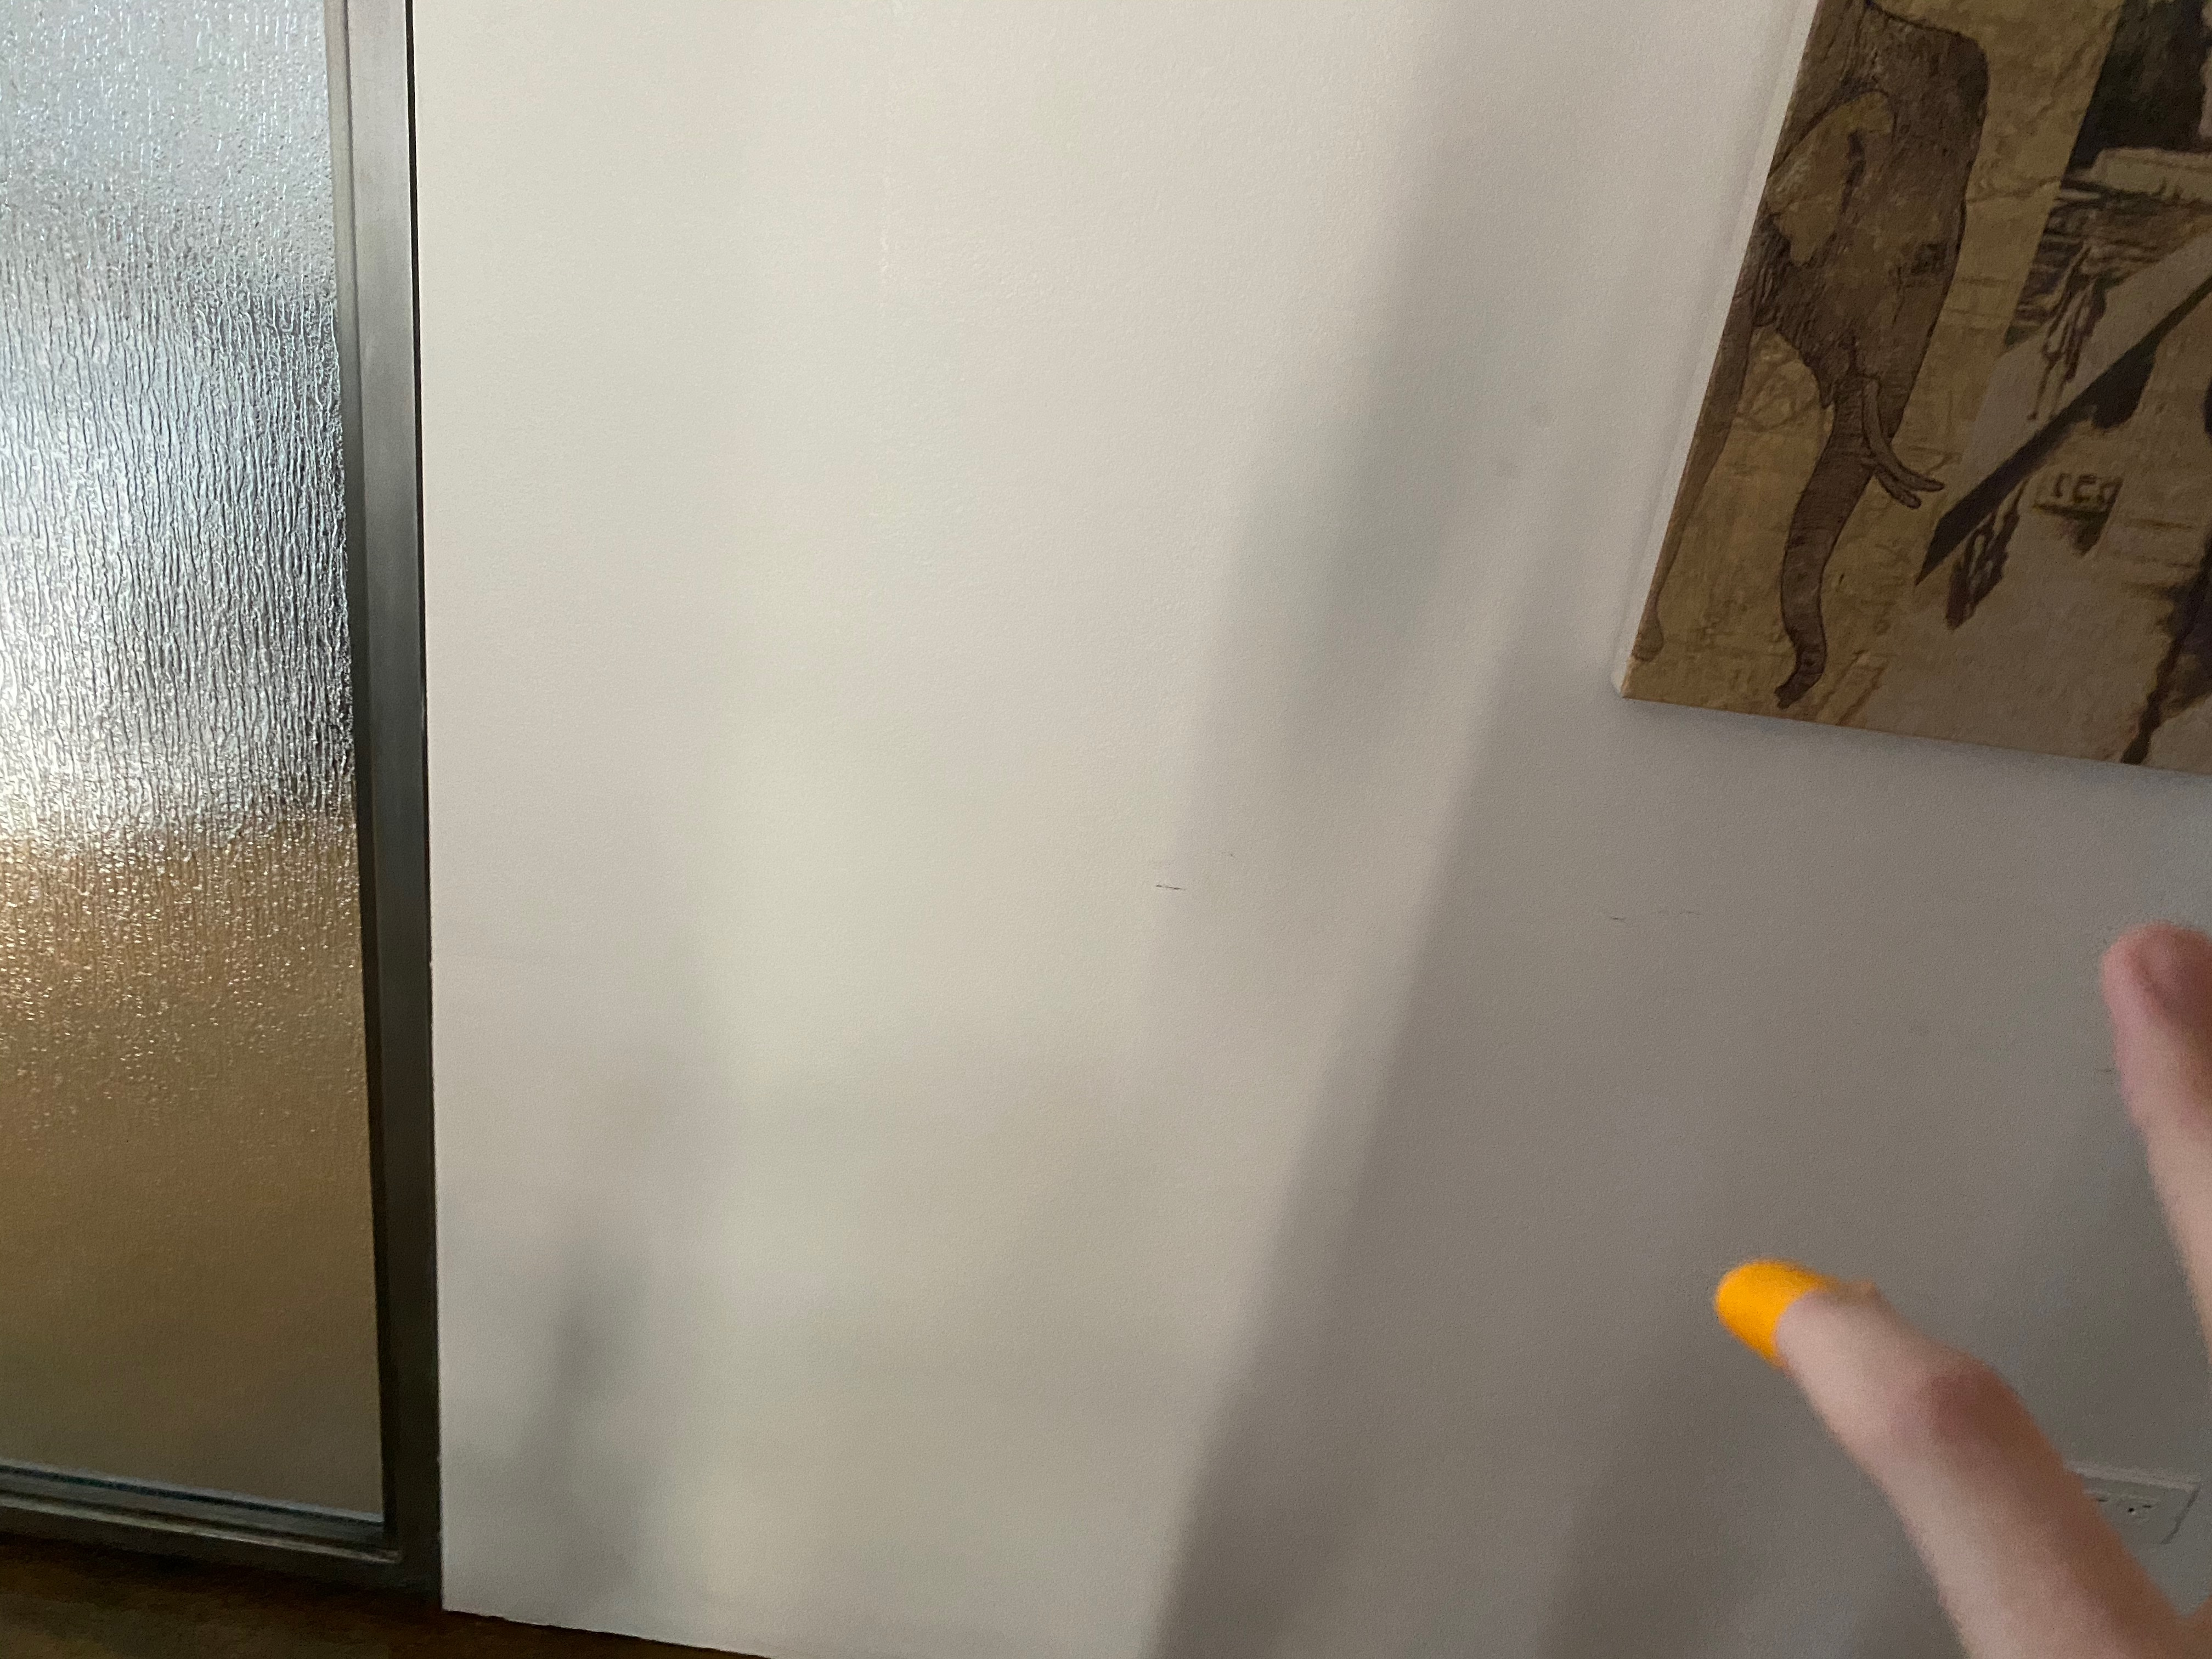fingertip: (1691, 1244, 1829, 1371)
